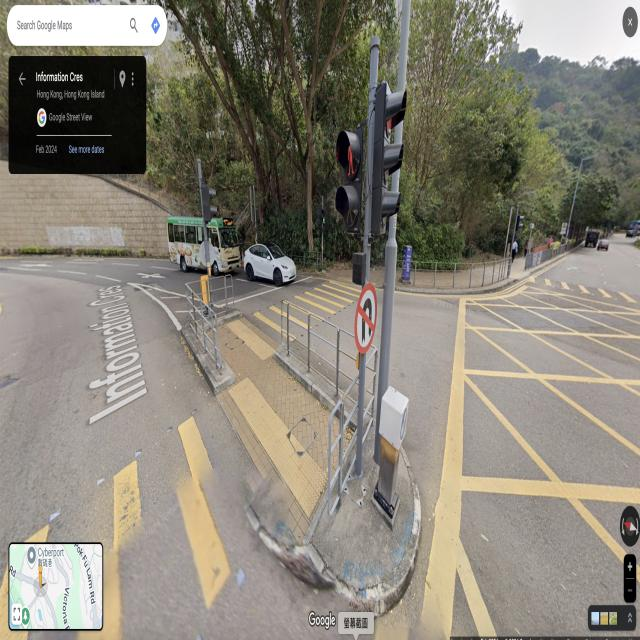Order-Sign: (355, 284, 377, 354)
